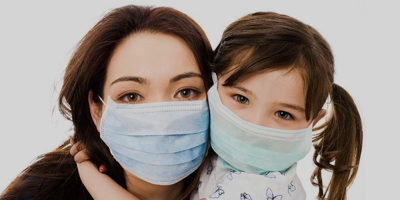with_mask: (102, 71, 208, 187), (206, 82, 316, 170)
